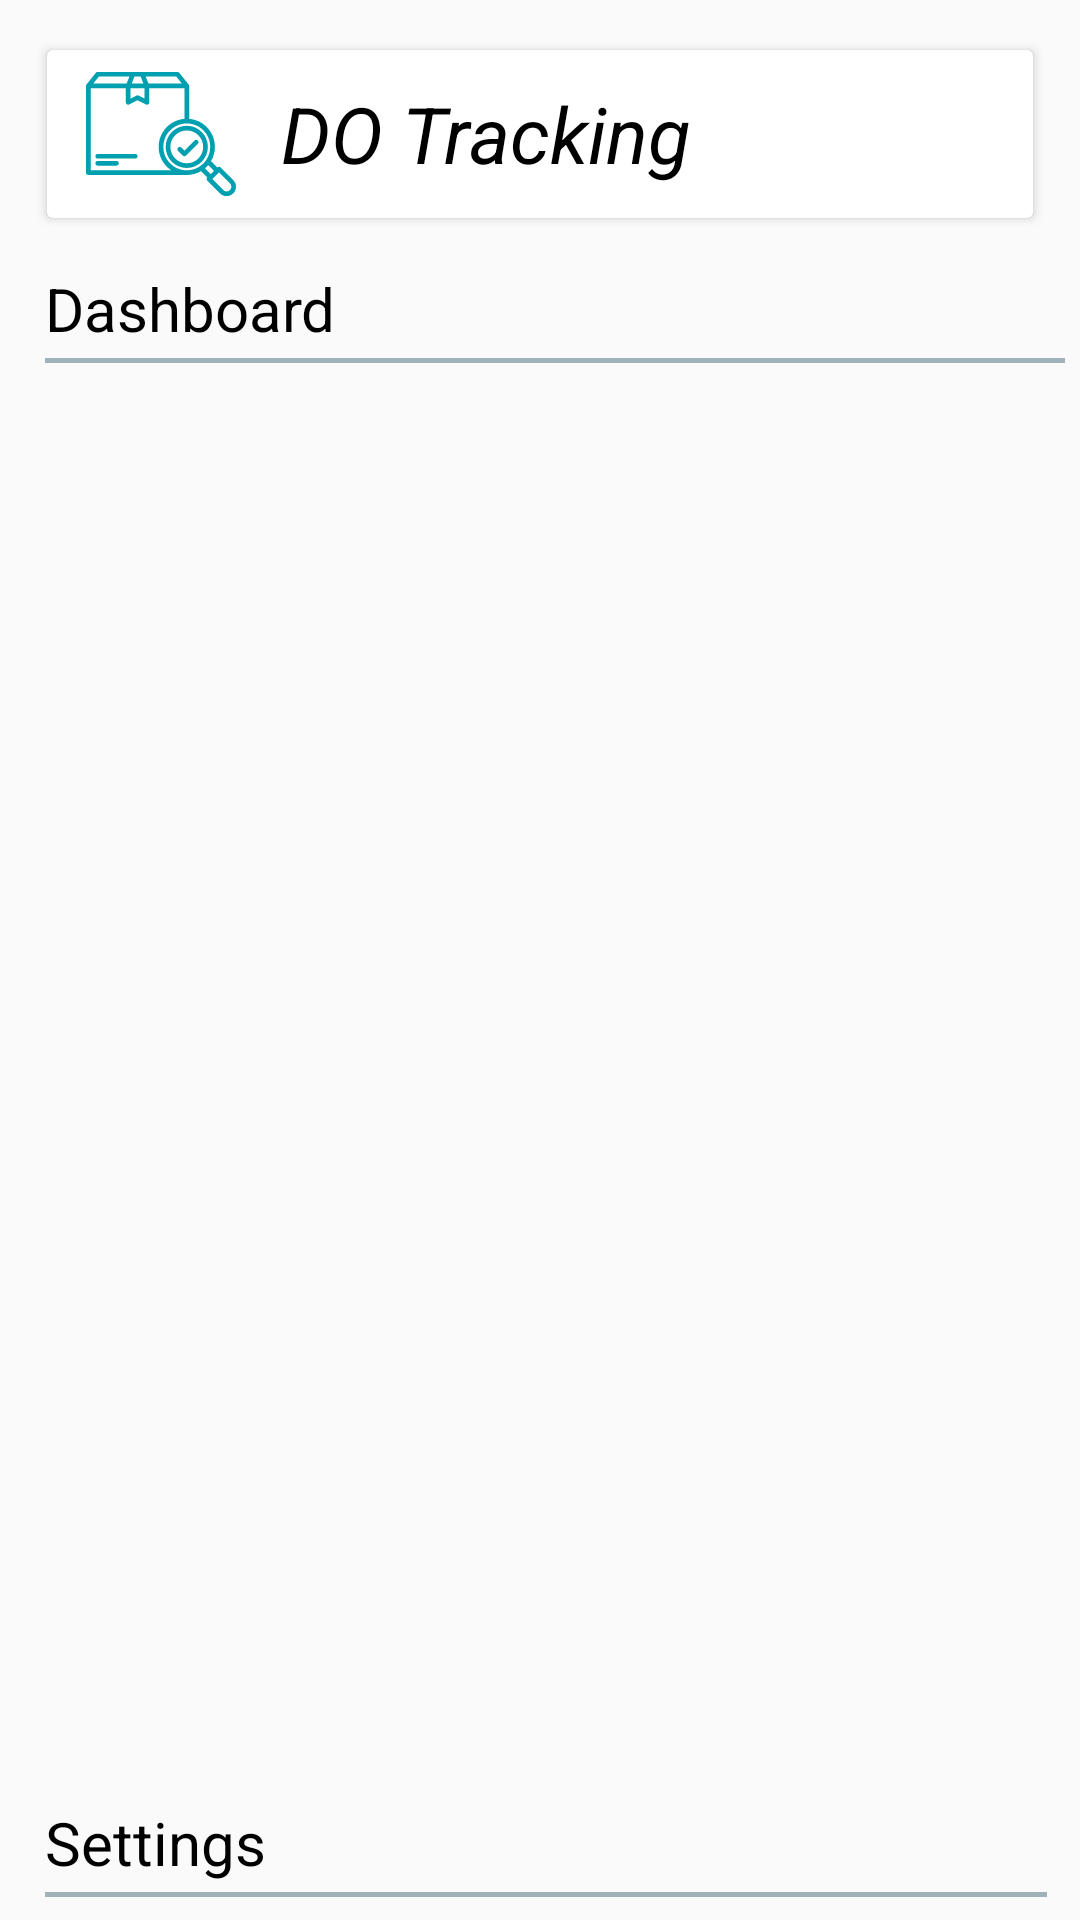

Screen size 1080*1920. Icon name, then its box in pixels as rect(x1, y1, x2, y2):
inspection: rect(86, 72, 236, 196)
